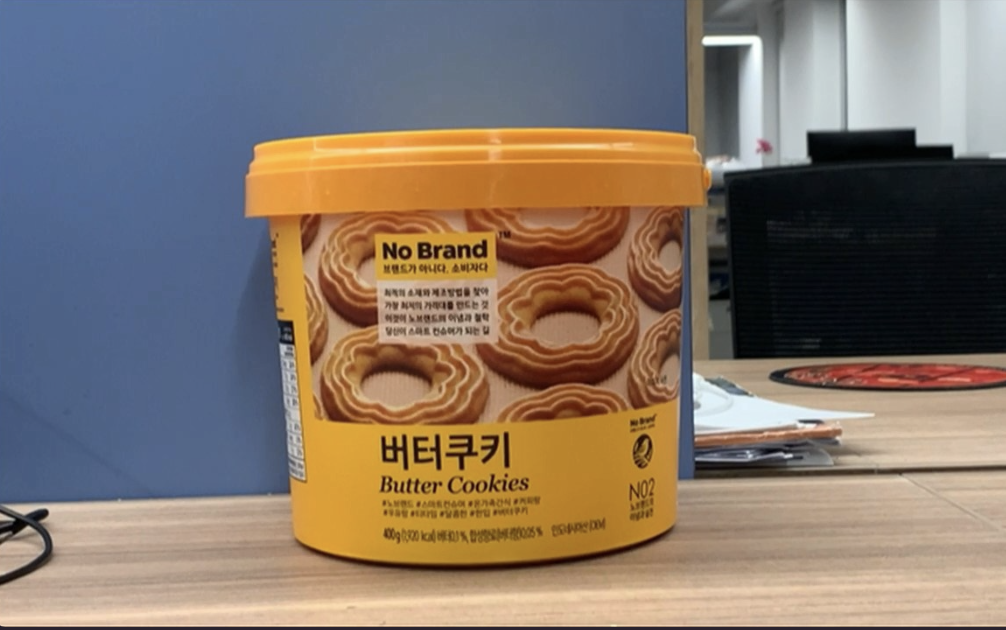cookies_400g-499g: (310, 202, 664, 537)
